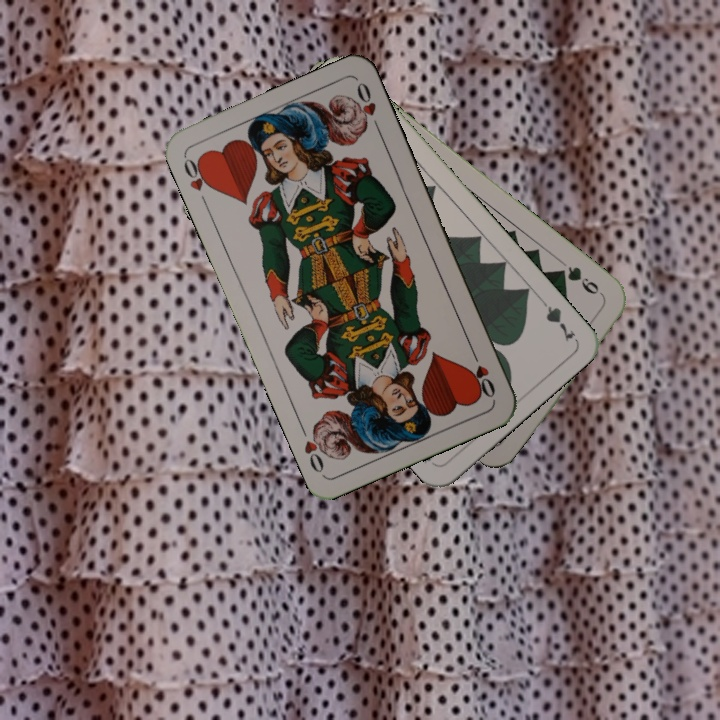G7: (534, 292, 579, 344)
G9: (553, 262, 608, 301)
HO: (179, 152, 216, 209), (467, 345, 498, 401)
